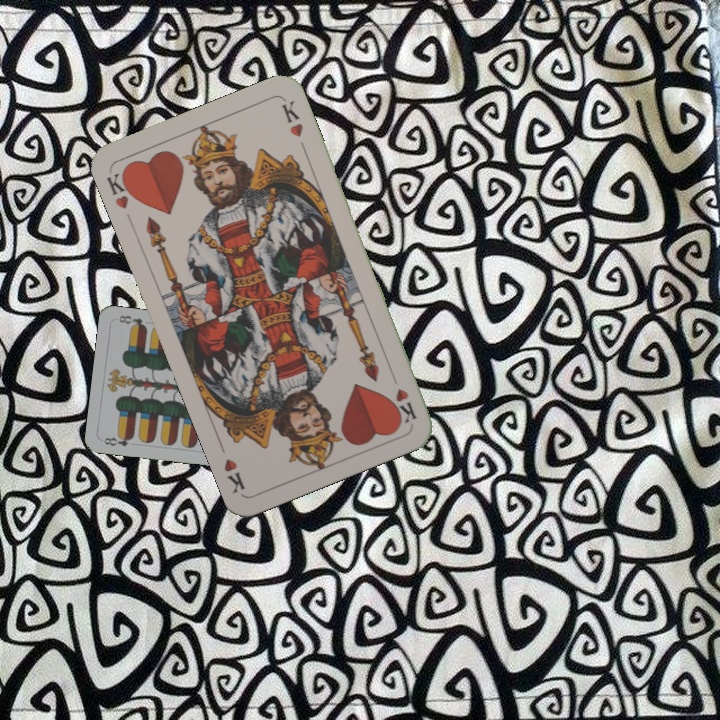E8: (100, 431, 136, 449)
HK: (102, 166, 139, 212), (391, 384, 420, 426)
